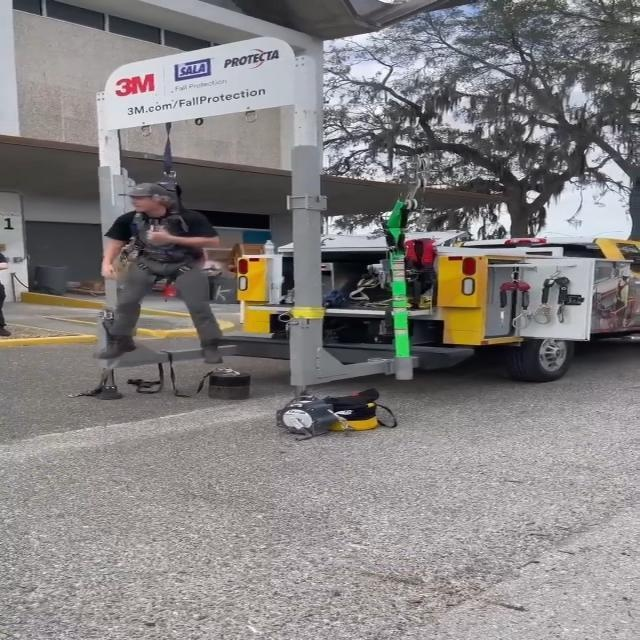Arnes_seguridad: (104, 177, 216, 292)
